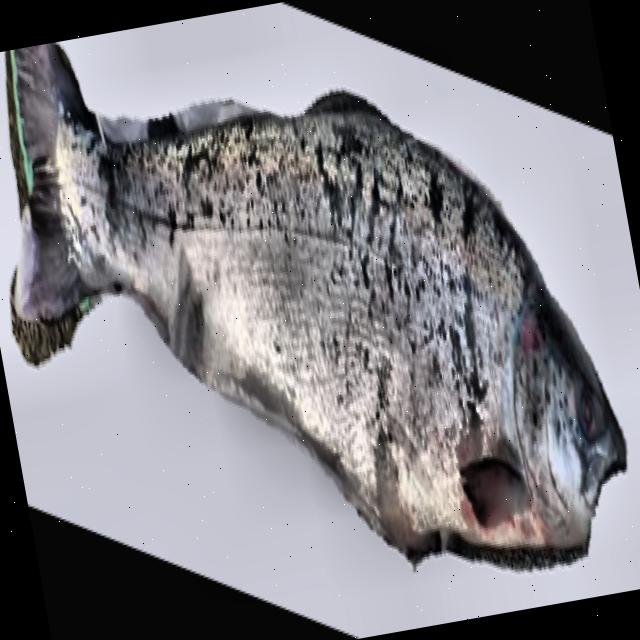mild_red: (50, 116, 538, 531)
